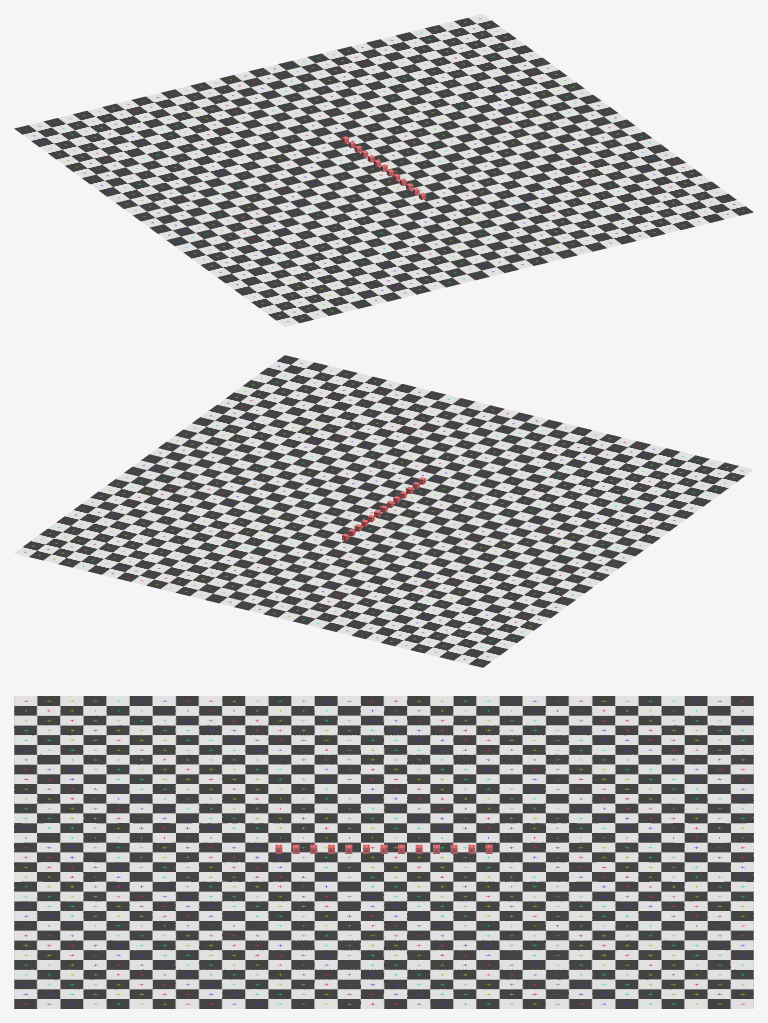
Rendered from SubdividedCube.gltf.
3 views of the same model, one above another, from view 1: azimuth 30°, elevation 25°; view 2: azimuth 150°, elevation 25°; view 3: azimuth 270°, elevation 25° (orthographic). The views are drawn at different scales.
Visible parts, largest first — view 1: Grid; view 2: Grid; view 3: Grid.
Part boxes in pixels (x1,y1,x2,y2): Grid: (14,14,753,326); Grid: (14,355,753,667); Grid: (14,696,753,1008).
Bounding box in the file's own units: 211 × 2 × 211.
2 materials, 2 textured.
